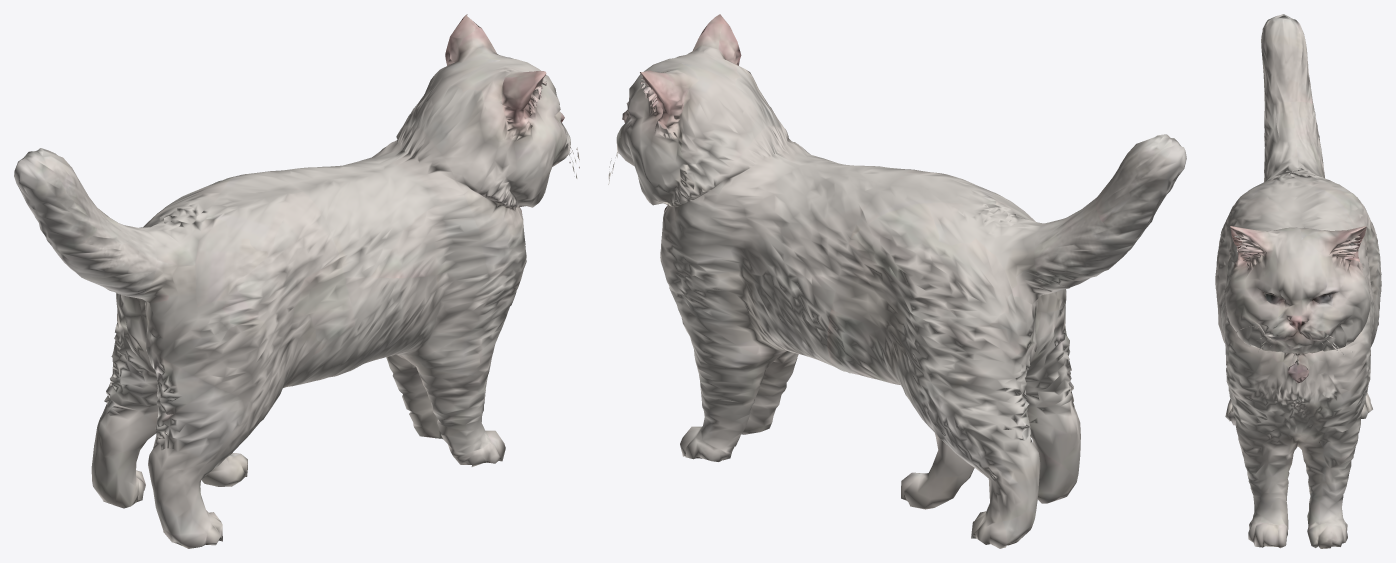
File: SALADCAT-lo.glb
3 renders of one model, left to right at view 1: azimuth 30°, elevation 25°; view 2: azimuth 150°, elevation 25°; view 3: azimuth 270°, elevation 25°, orthographic. The views are drawn at different scales.
Visible parts, largest first — view 1: tripo_node_cd040e70-8850-48e9-95d1-4a41f6b21c55; view 2: tripo_node_cd040e70-8850-48e9-95d1-4a41f6b21c55; view 3: tripo_node_cd040e70-8850-48e9-95d1-4a41f6b21c55.
Boxes of the visible parts, x1=… form: tripo_node_cd040e70-8850-48e9-95d1-4a41f6b21c55: x1=14, y1=14, x2=579, y2=548; tripo_node_cd040e70-8850-48e9-95d1-4a41f6b21c55: x1=608, y1=14, x2=1186, y2=548; tripo_node_cd040e70-8850-48e9-95d1-4a41f6b21c55: x1=1215, y1=14, x2=1381, y2=548.
Bounding box in the file's own units: 1.41 × 0.9951 × 0.4326.
1 material, 1 textured.
